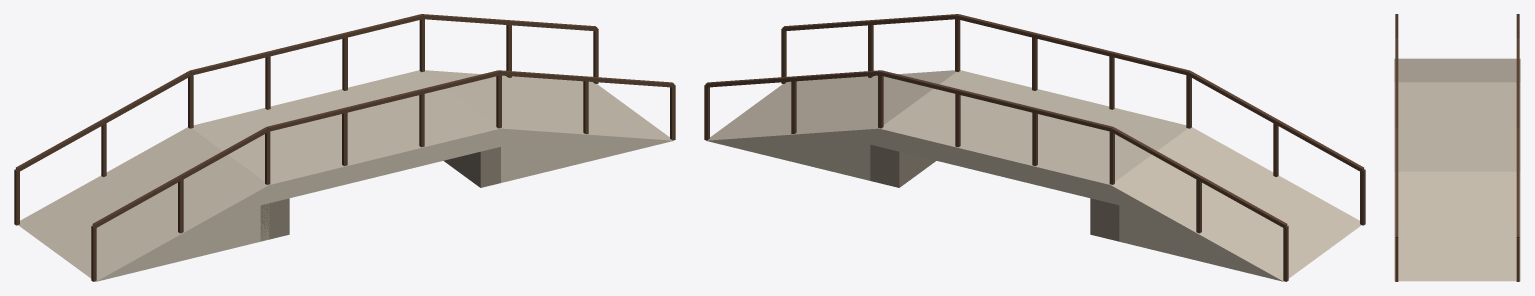
The model's file is bridge.glb.
3 views of the same model, side by side, from view 1: azimuth 30°, elevation 25°; view 2: azimuth 150°, elevation 25°; view 3: azimuth 270°, elevation 25° (orthographic). The views are drawn at different scales.
Parts seen in each view (by area): view 1: ramp_left, span, ramp_right, pier_right, rail_s_mid_rail, rail_n_mid_rail, rail_s_left_rail, rail_n_left_rail, pier_left, rail_n_right_rail, rail_s_right_rail; view 2: ramp_left, span, ramp_right, pier_right, rail_n_mid_rail, rail_s_mid_rail, rail_n_left_rail, rail_s_left_rail, pier_left, rail_n_right_rail, rail_s_right_rail; view 3: ramp_right, span, ramp_left, rail_n_right_rail, rail_s_right_rail, rail_n_mid_rail, rail_s_mid_rail, rail_n_right_post2, rail_s_right_post2, rail_n_left_rail, rail_s_left_rail.
Boxes of the visible parts, left/top/right/bottom form: ramp_left: left=18, top=127, right=269, bottom=281; span: left=192, top=70, right=500, bottom=202; ramp_right: left=423, top=70, right=674, bottom=182; pier_right: left=443, top=147, right=500, bottom=187; rail_s_mid_rail: left=266, top=70, right=500, bottom=131; rail_n_mid_rail: left=190, top=14, right=423, bottom=75; rail_s_left_rail: left=92, top=127, right=268, bottom=227; rail_n_left_rail: left=16, top=71, right=191, bottom=171; pier_left: left=260, top=198, right=289, bottom=241; rail_n_right_rail: left=422, top=14, right=597, bottom=31; rail_s_right_rail: left=499, top=70, right=674, bottom=87; ramp_left: left=1110, top=127, right=1361, bottom=281; span: left=879, top=70, right=1187, bottom=202; ramp_right: left=705, top=70, right=956, bottom=180; pier_right: left=870, top=144, right=936, bottom=187; rail_n_mid_rail: left=879, top=70, right=1113, bottom=131; rail_s_mid_rail: left=956, top=14, right=1189, bottom=74; rail_n_left_rail: left=1111, top=127, right=1287, bottom=227; rail_s_left_rail: left=1187, top=71, right=1363, bottom=171; pier_left: left=1090, top=198, right=1119, bottom=241; rail_n_right_rail: left=705, top=70, right=880, bottom=87; rail_s_right_rail: left=782, top=14, right=957, bottom=31; ramp_right: left=1394, top=171, right=1520, bottom=281; span: left=1394, top=82, right=1520, bottom=171; ramp_left: left=1394, top=58, right=1520, bottom=82; rail_n_right_rail: left=1516, top=127, right=1519, bottom=238; rail_s_right_rail: left=1395, top=127, right=1398, bottom=238; rail_n_mid_rail: left=1516, top=38, right=1519, bottom=127; rail_s_mid_rail: left=1395, top=38, right=1398, bottom=127; rail_n_right_post2: left=1516, top=238, right=1519, bottom=281; rail_s_right_post2: left=1395, top=238, right=1398, bottom=281; rail_n_left_rail: left=1516, top=14, right=1519, bottom=37; rail_s_left_rail: left=1395, top=14, right=1398, bottom=37.
Bounding box in the file's own units: 10.06 × 1.83 × 2.4.
